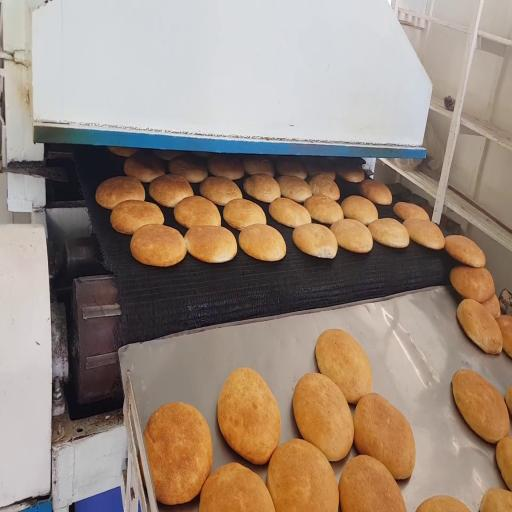bread: (144, 403, 212, 504), (218, 368, 280, 464), (293, 373, 353, 461), (354, 394, 415, 479), (267, 439, 339, 511), (452, 369, 509, 443), (315, 330, 372, 403), (339, 455, 406, 511), (199, 463, 274, 511), (457, 299, 502, 354), (131, 225, 186, 266), (185, 226, 237, 263), (110, 201, 164, 234), (239, 224, 286, 261), (450, 266, 494, 303), (96, 177, 145, 210), (174, 196, 221, 228), (293, 224, 337, 258), (149, 174, 193, 207), (331, 219, 373, 253), (223, 199, 266, 230), (445, 235, 485, 267), (403, 218, 444, 249), (269, 198, 311, 228), (124, 152, 165, 182), (368, 218, 409, 248), (200, 177, 242, 205), (304, 194, 343, 224), (341, 196, 378, 226), (243, 174, 281, 202), (169, 156, 207, 183), (208, 155, 244, 180), (278, 176, 311, 202), (416, 496, 470, 511), (308, 174, 339, 200), (360, 180, 392, 205), (496, 437, 511, 489), (479, 488, 511, 511), (275, 157, 307, 180), (305, 158, 335, 180), (243, 156, 274, 177), (394, 202, 429, 220), (496, 315, 511, 357), (483, 294, 501, 318), (336, 168, 365, 182), (153, 150, 183, 161), (108, 147, 138, 157), (505, 386, 511, 414)
